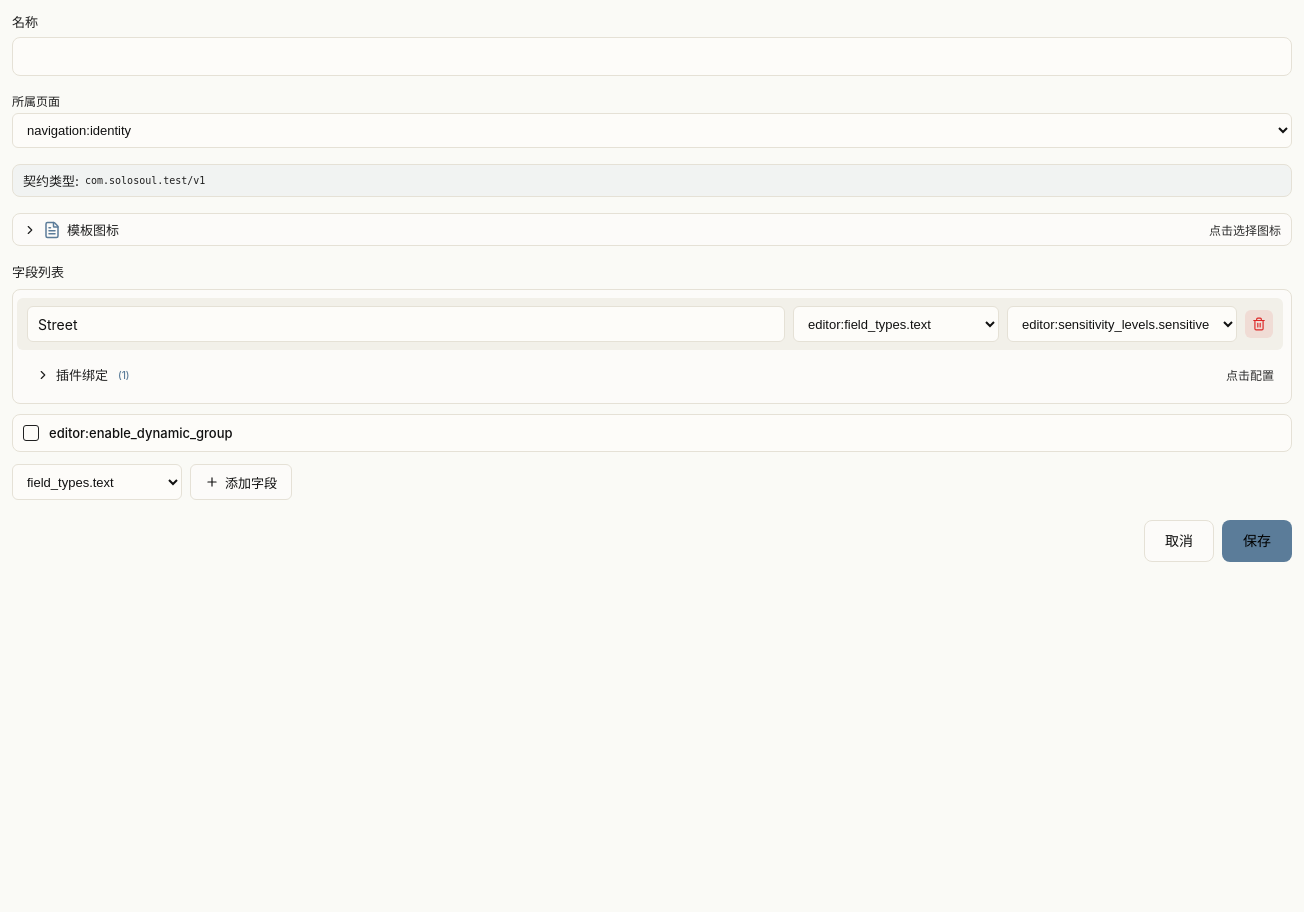
Test: TemplateEditor — toggleBindingExpanded auto-derivation › shows derived bindings with dashed border and no remove button
The image size is (1304, 912).
Click the button "插件绑定 (1) 点击配置" at (82, 375), box [27,360,1283,389]
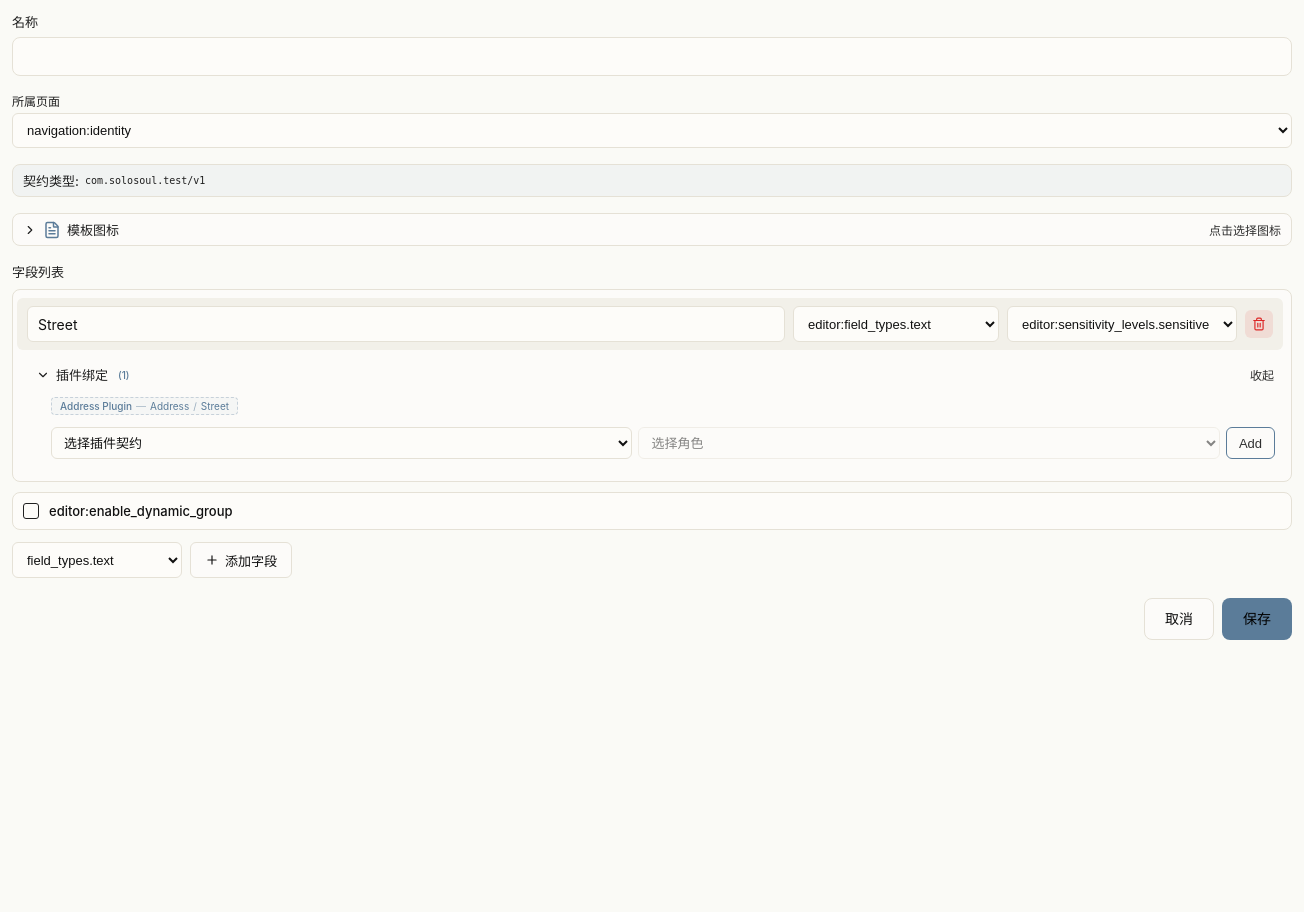
Now the element showing "Address Plugin — Address / Street" is shown, box [51,397,238,415]
